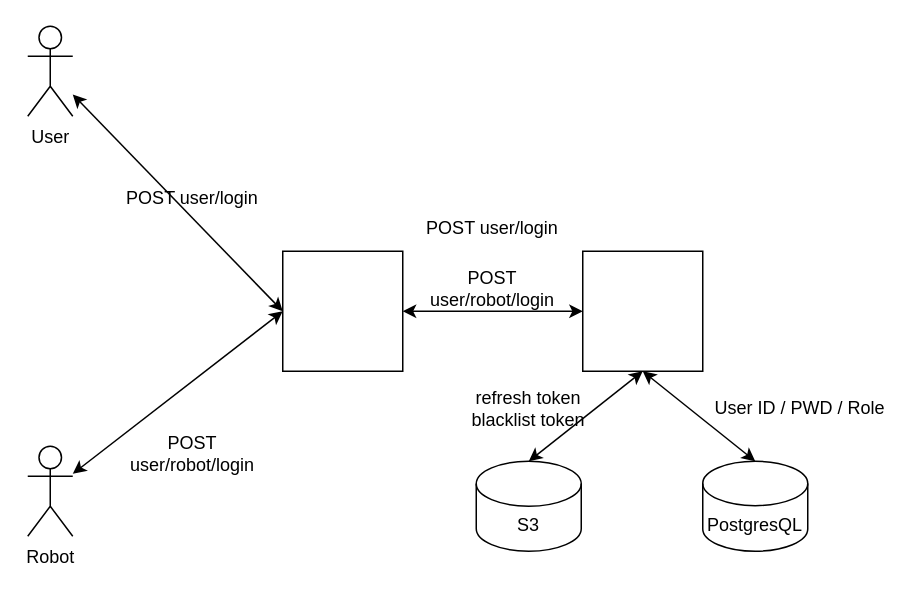
Some shapes in this 923 by 594 pixel diagram are drawn without their labels. The centre of each missing label's shape, as x and y in pixels:
"API Gateway" belongs at [342,310].
"Auth Service" belongs at [642,310].
